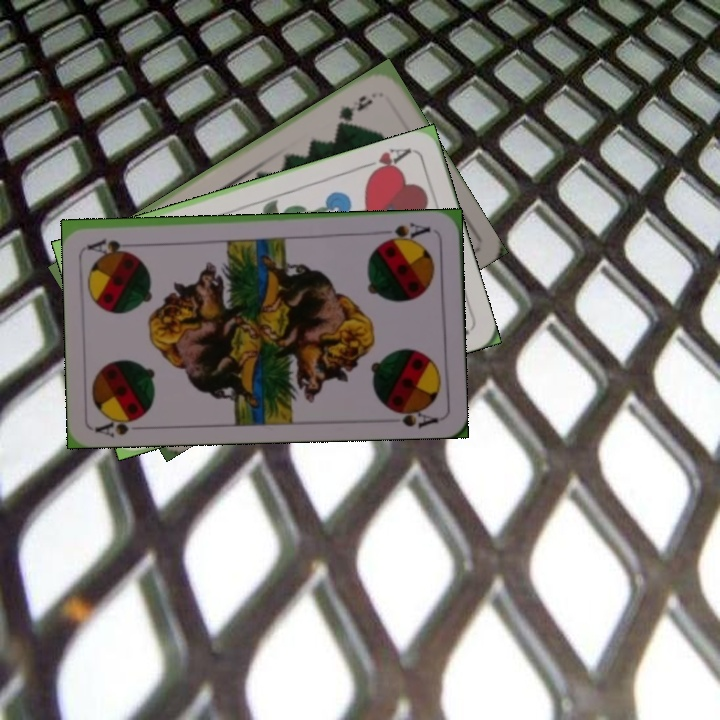G9: (333, 91, 376, 129)
HA: (357, 143, 414, 180)
SA: (92, 411, 149, 439), (378, 218, 433, 245)
